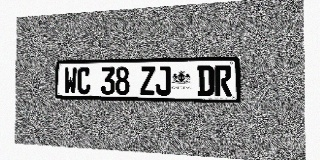3: (101, 67, 115, 95)
8: (115, 67, 130, 95)
C: (77, 67, 90, 94)
D: (197, 65, 214, 96)
J: (156, 66, 171, 95)
R: (215, 65, 232, 96)
W: (64, 67, 77, 94)
Z: (140, 66, 155, 95)
